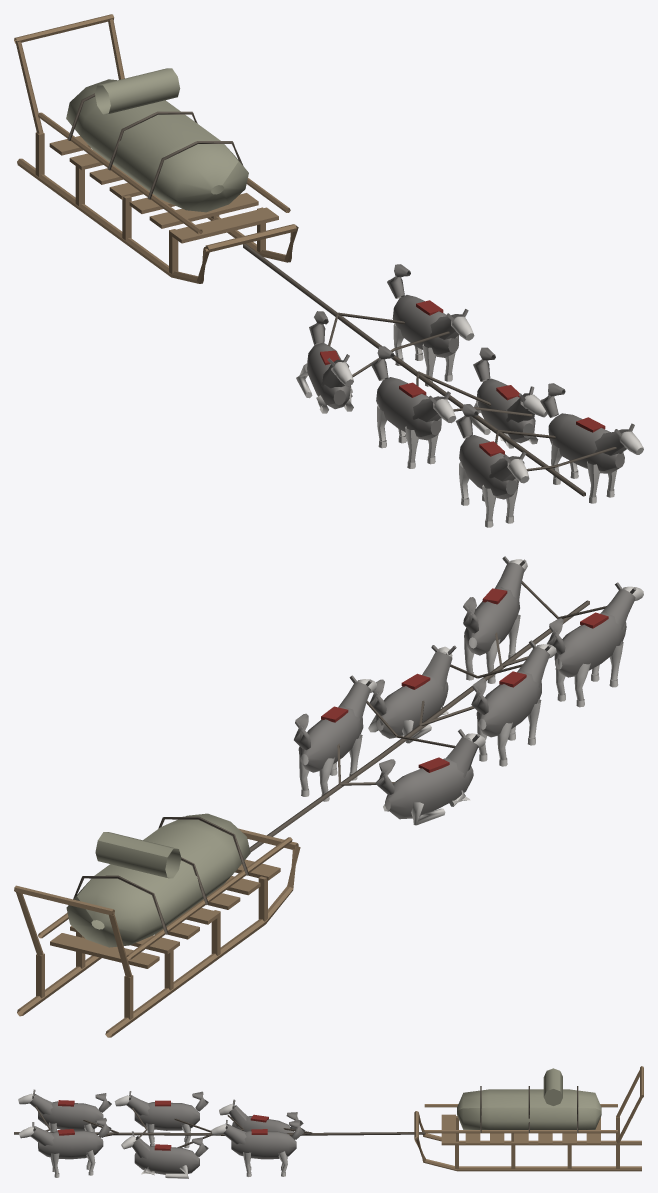
File: dog-sled.glb
The picture shows the model from 3 angles, top to bottom: view 1: azimuth 30°, elevation 25°; view 2: azimuth 150°, elevation 25°; view 3: azimuth 270°, elevation 25°; orthographic projection. The views are drawn at different scales.
Parts seen in each view (by area): view 1: dog-sled, dog-sled-canvas, dog-sled-wood, dog-sled-pale, dog-sled-rope, dog-sled-harness; view 2: dog-sled, dog-sled-canvas, dog-sled-wood, dog-sled-pale, dog-sled-rope, dog-sled-harness; view 3: dog-sled, dog-sled-canvas, dog-sled-wood, dog-sled-pale, dog-sled-rope, dog-sled-harness.
Part boxes in pixels (x1,y1,x2,y2): dog-sled: (307,264,634,499); dog-sled-canvas: (66,68,248,212); dog-sled-wood: (14,14,298,283); dog-sled-pale: (296,316,643,527); dog-sled-rope: (67,93,616,496); dog-sled-harness: (320,300,605,456); dog-sled: (294,556,636,819); dog-sled-canvas: (66,813,250,947); dog-sled-wood: (14,828,300,1037); dog-sled-pale: (299,559,643,825); dog-sled-rope: (73,581,606,934); dog-sled-harness: (321,588,608,772); dog-sled: (30,1089,305,1174); dog-sled-canvas: (457,1068,601,1129); dog-sled-wood: (414,1066,643,1171); dog-sled-pale: (18,1093,287,1178); dog-sled-rope: (14,1086,578,1147); dog-sled-harness: (57,1100,268,1150).
Bounding box in the file's own units: 1.29 × 1.12 × 7.82.
